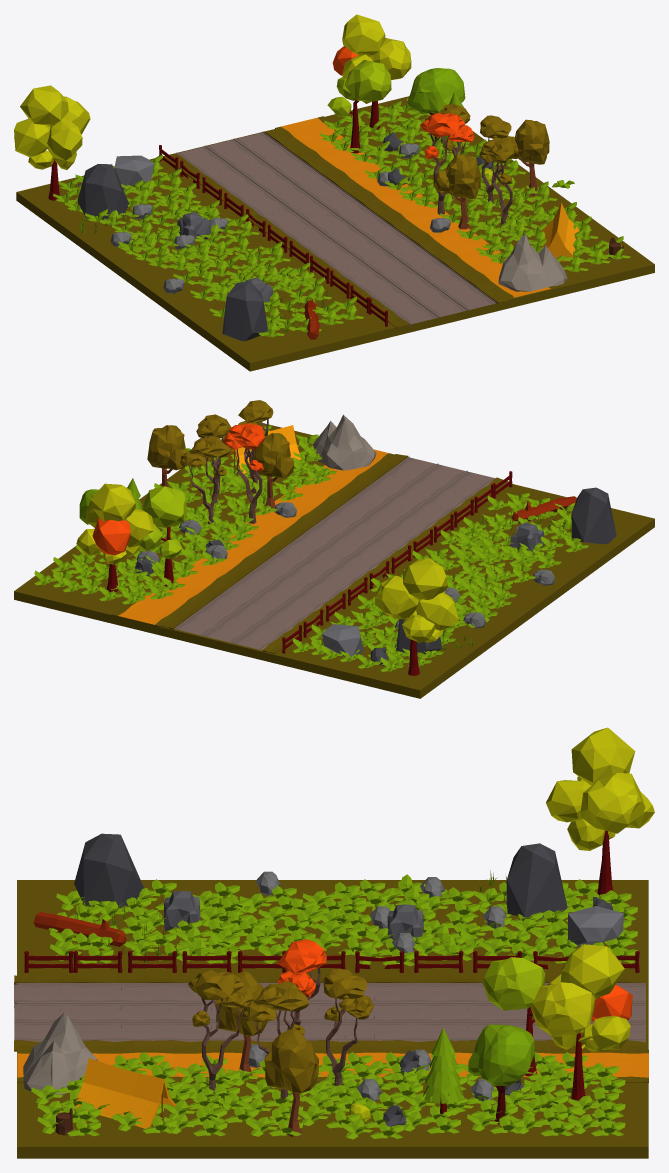
The model's file is Forest Area 9.fbx.
The picture shows the model from 3 angles, top to bottom: view 1: azimuth 30°, elevation 25°; view 2: azimuth 150°, elevation 25°; view 3: azimuth 270°, elevation 25°; orthographic projection. The views are drawn at different scales.
Parts seen in each view (by area): view 1: SM_Env_Grass_01.079, Plane.009, Tree3.017, Tree3.039, Rock10.004, Plant_1_1.2499, Tree1.039, Rock_04.016, Rock_04.020, Tree_03.001, SM_Env_Tree_03.002, SM_Env_Tree_02.011 (+6 smaller); view 2: SM_Env_Grass_01.079, Plane.009, Tree3.017, Tree3.039, Plant_1_1.2499, Tree1.039, Rock10.004, Rock_04.016, SM_Env_Tree_02.011, SM_Env_Tree_03.002, SM_Env_Tree_02.012, SM_Env_Tree_03.003 (+7 smaller); view 3: Plane.009, SM_Env_Grass_01.079, Tree3.017, Tree3.039, Plant_1_1.2499, Tent.001, Rock_04.016, Rock_04.020, Tree_03.001, Rock10.004, SM_Env_Tree_03.003, Tree1.039 (+10 smaller).
Boxes of the visible parts, box(x1,y1,x2,y2) form: SM_Env_Grass_01.079: box(163, 116, 557, 328); Plane.009: box(16, 96, 654, 371); Tree3.017: box(14, 85, 90, 200); Tree3.039: box(332, 14, 411, 131); Rock10.004: box(498, 234, 567, 291); Plant_1_1.2499: box(159, 145, 387, 326); Tree1.039: box(327, 60, 391, 153); Rock_04.016: box(222, 281, 267, 341); Rock_04.020: box(77, 164, 129, 219); Tree_03.001: box(407, 68, 465, 139); SM_Env_Tree_03.002: box(433, 154, 480, 229); SM_Env_Tree_02.011: box(420, 112, 474, 214); SM_Env_Grass_01.079: box(111, 449, 508, 653); Plane.009: box(14, 422, 654, 698); Tree3.017: box(375, 558, 458, 675); Tree3.039: box(76, 483, 154, 591); Plant_1_1.2499: box(282, 471, 512, 653); Tree1.039: box(138, 486, 187, 586); Rock10.004: box(313, 414, 376, 470); Rock_04.016: box(571, 487, 616, 544); SM_Env_Tree_02.011: box(223, 423, 264, 523); SM_Env_Tree_03.002: box(253, 433, 294, 508); SM_Env_Tree_02.012: box(180, 435, 230, 523); SM_Env_Tree_03.003: box(147, 425, 188, 486); Plane.009: box(17, 880, 648, 1158); SM_Env_Grass_01.079: box(14, 975, 648, 1082); Tree3.017: box(546, 727, 654, 895); Tree3.039: box(531, 944, 632, 1100); Plant_1_1.2499: box(24, 943, 639, 972); Tent.001: box(73, 1058, 175, 1128); Rock_04.016: box(74, 833, 143, 907); Rock_04.020: box(506, 843, 567, 918); Tree_03.001: box(468, 1024, 534, 1123); Rock10.004: box(23, 1012, 97, 1094); SM_Env_Tree_03.003: box(264, 1028, 318, 1137); Tree1.039: box(482, 957, 545, 1076).
Size of what is drawn, in the model's own units: 10470 by 2889 by 10147.
